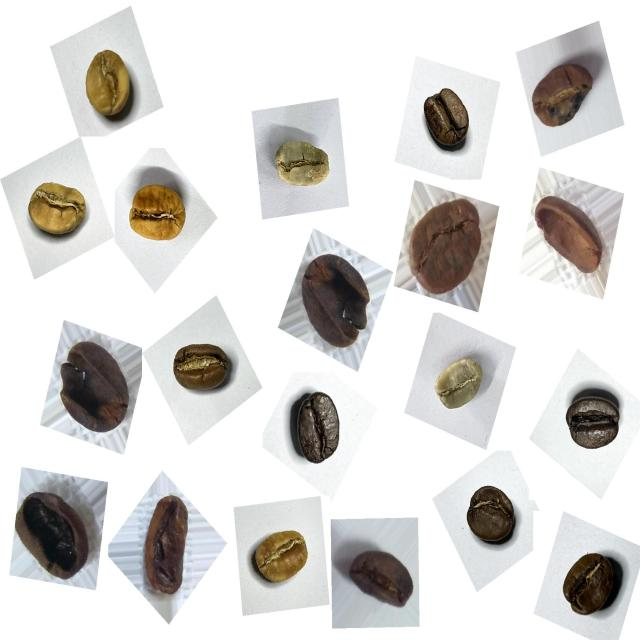bad: (401, 186, 491, 304), (8, 479, 101, 593), (48, 328, 138, 443), (293, 242, 382, 358), (133, 487, 207, 608), (527, 184, 609, 282), (525, 47, 606, 142), (342, 531, 420, 619)
dark: (552, 538, 629, 626), (282, 381, 354, 475), (556, 381, 629, 467), (458, 471, 527, 556)
green: (265, 130, 340, 204), (424, 349, 492, 425)
light: (70, 38, 141, 130), (120, 173, 196, 258), (20, 170, 97, 253), (246, 518, 319, 599)
medium: (414, 79, 482, 160), (164, 330, 236, 403)
